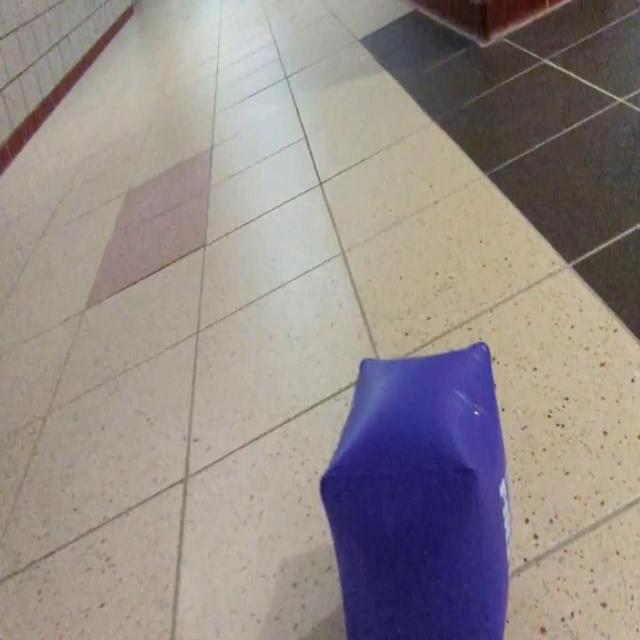frc_cube: (320, 343, 512, 640)
